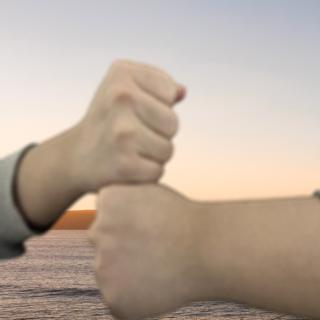CAREFUL: (47, 56, 306, 313)
